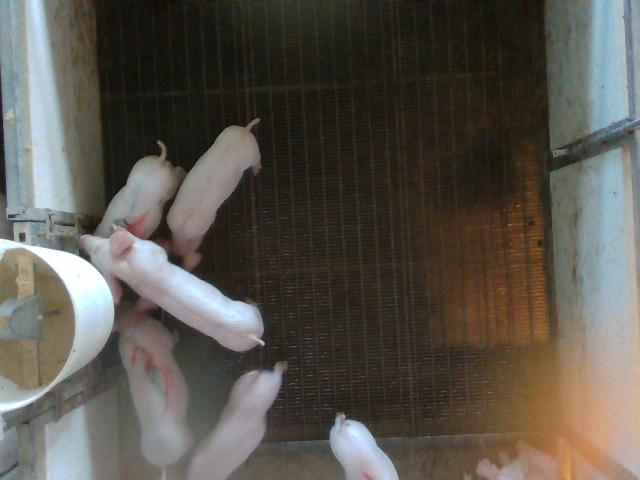pig-3: (114, 298, 191, 478)
pig-4: (95, 141, 186, 239)
